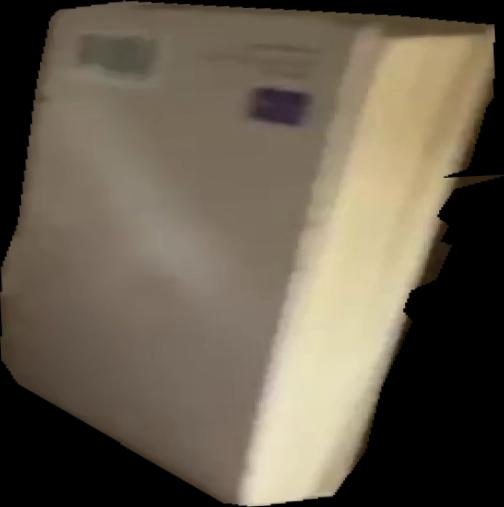backward: (1, 1, 504, 507)
